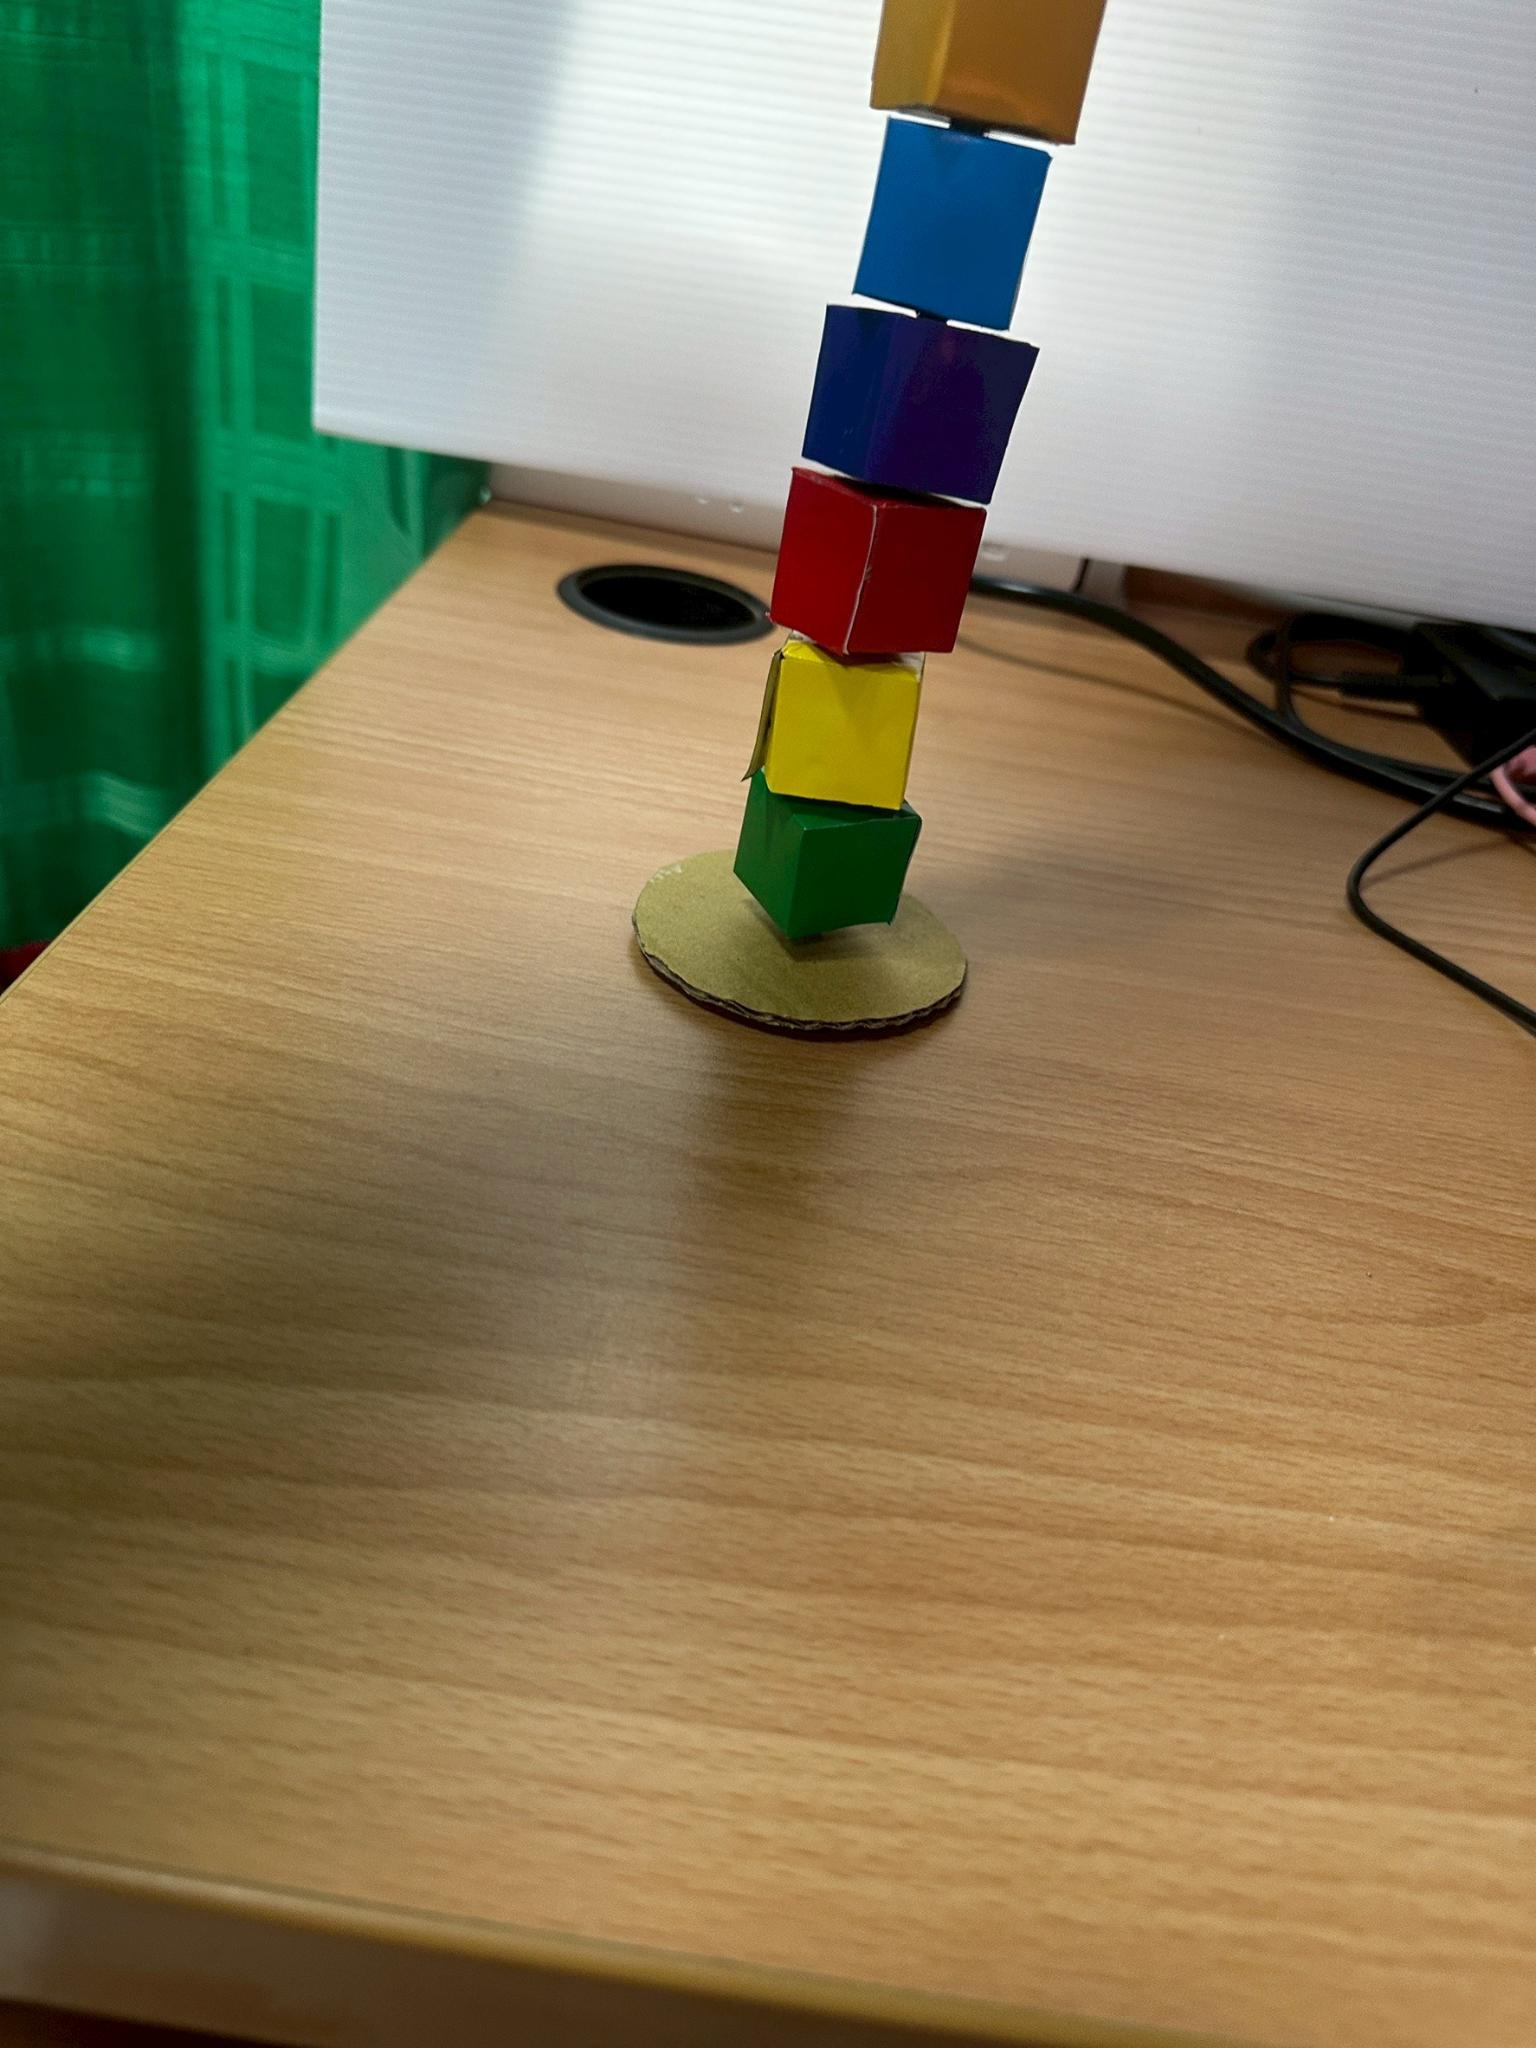base: (634, 848, 966, 1032)
